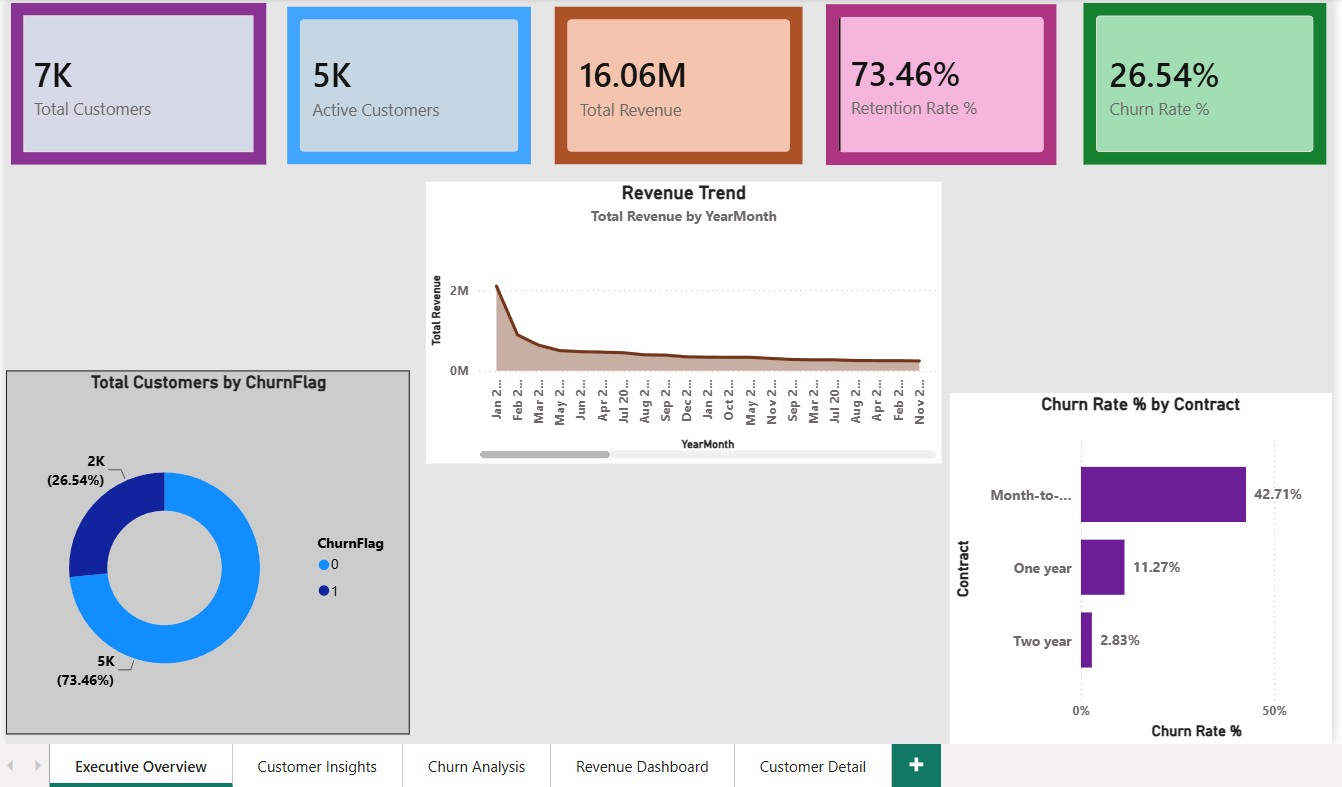

Layout of this report page (visuals, bound fields, positions):
{"tool":"powerbi","page":{"name":"Executive Overview","canvas":[1280,720],"ordinal":0},"visuals":[{"type":"cardVisual","fields":{"Data":["fact_Churn.Total Customers"]},"box":[0,0,256.9,166.3],"z":0},{"type":"cardVisual","fields":{"Data":["fact_Churn.Active Customers"]},"box":[266.9,3.7,245.8,162.6],"z":1000},{"type":"cardVisual","fields":{"Data":["fact_Churn.Churn Rate %"]},"box":[1035.2,0,244.5,166.3],"z":2000},{"type":"cardVisual","fields":{"Data":["fact_Churn.Retention Rate %"]},"box":[787,1.2,232.1,165.1],"z":3000},{"type":"cardVisual","fields":{"Data":["fact_Churn.Total Revenue"]},"box":[525.1,3.7,249.5,162.6],"z":4000},{"type":"lineChart","title":"Revenue Trend","fields":{"Category":["dim_Date.YearMonth"],"Y":["fact_Churn.Total Revenue"]},"box":[405.9,177.5,497.8,271.8],"z":5000},{"type":"donutChart","fields":{"Category":["fact_Churn.ChurnFlag"],"Y":["fact_Churn.Total Customers"]},"box":[0,360,389.8,351.3],"z":6000},{"type":"clusteredBarChart","fields":{"Y":["fact_Churn.Churn Rate %"],"Category":["churn_project dim_subscription.Contract"]},"box":[911.1,381.1,368.7,338.9],"z":7000}]}

Visuals, with their boxes on the page's 1280x720 design canvas (x1, y1, x2, y2). These are canvas units, not pixel positions in the 1342x787 screenshot, which may show the page scaled, cropped or inside an application window:
cardVisual - fact_Churn.Total Customers: (left=0, top=0, right=257, bottom=166)
cardVisual - fact_Churn.Active Customers: (left=267, top=4, right=513, bottom=166)
cardVisual - fact_Churn.Churn Rate %: (left=1035, top=0, right=1280, bottom=166)
cardVisual - fact_Churn.Retention Rate %: (left=787, top=1, right=1019, bottom=166)
cardVisual - fact_Churn.Total Revenue: (left=525, top=4, right=775, bottom=166)
"Revenue Trend" lineChart: (left=406, top=178, right=904, bottom=449)
donutChart - fact_Churn.ChurnFlag x fact_Churn.Total Customers: (left=0, top=360, right=390, bottom=711)
clusteredBarChart - fact_Churn.Churn Rate % x churn_project dim_subscription.Contract: (left=911, top=381, right=1280, bottom=720)
